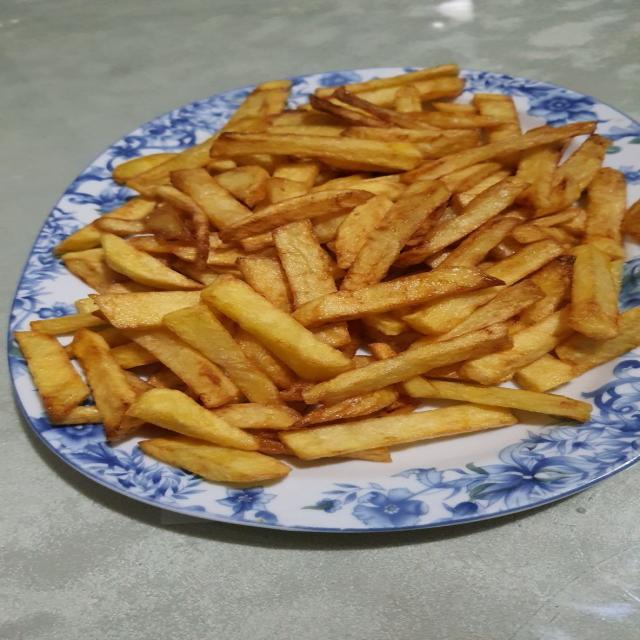potato fries: (16, 65, 639, 481), (303, 324, 510, 403), (202, 276, 352, 380), (280, 405, 516, 459), (294, 268, 502, 326), (341, 181, 449, 290), (395, 178, 526, 266), (164, 305, 280, 404), (404, 122, 595, 181), (126, 329, 237, 407), (213, 133, 421, 172), (127, 389, 258, 450), (220, 190, 372, 241), (408, 379, 591, 421), (74, 330, 140, 440), (140, 437, 291, 481), (14, 332, 89, 420), (101, 234, 201, 289), (274, 220, 336, 308), (570, 245, 618, 340), (92, 292, 199, 328), (586, 168, 626, 257), (210, 404, 300, 430)
